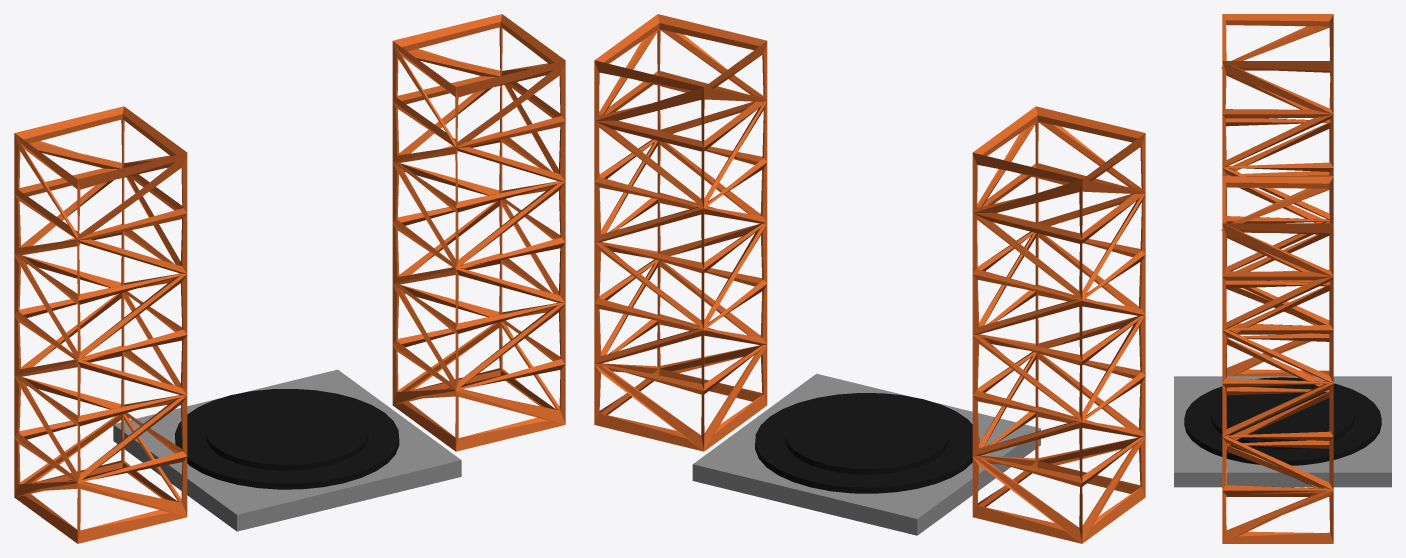
File: Launchpad.fbx
3 views of the same model, side by side, from view 1: azimuth 30°, elevation 25°; view 2: azimuth 150°, elevation 25°; view 3: azimuth 270°, elevation 25° (orthographic). The views are drawn at different scales.
Visible parts, largest first — view 1: Cube.001, Cube.002, Circle, Cube; view 2: Cube.001, Cube.002, Circle, Cube; view 3: Cube.001, Cube.002, Circle, Cube.
Part boxes in pixels (x1=…): Cube.001: x1=392, y1=14, x2=565, y2=451; Cube.002: x1=14, y1=106, x2=187, y2=543; Circle: x1=175, y1=389, x2=399, y2=489; Cube: x1=113, y1=369, x2=461, y2=531; Cube.001: x1=594, y1=14, x2=767, y2=451; Cube.002: x1=972, y1=106, x2=1145, y2=543; Circle: x1=755, y1=393, x2=979, y2=493; Cube: x1=692, y1=373, x2=1040, y2=535; Cube.001: x1=1221, y1=176, x2=1333, y2=543; Cube.002: x1=1221, y1=14, x2=1333, y2=376; Circle: x1=1184, y1=377, x2=1381, y2=465; Cube: x1=1174, y1=376, x2=1391, y2=487.
Bounding box in the file's own units: 890 × 636 × 391.
